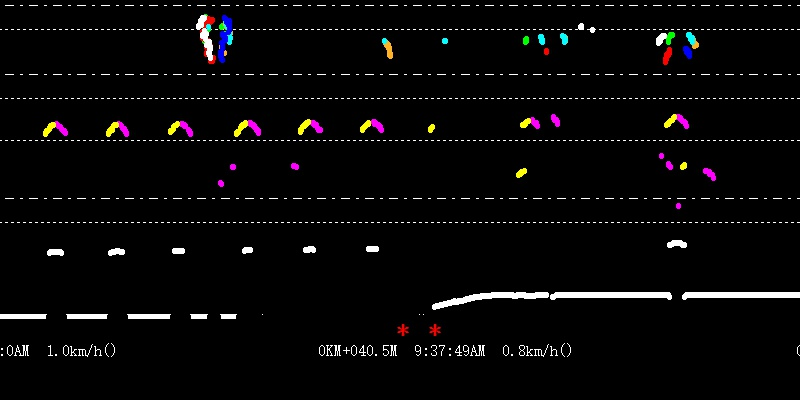J: (196, 4, 237, 66)
face_down: (556, 22, 572, 46), (521, 21, 530, 48), (537, 23, 545, 46)
star: (395, 320, 414, 339), (425, 320, 443, 338)
y_p: (24, 106, 391, 263)
